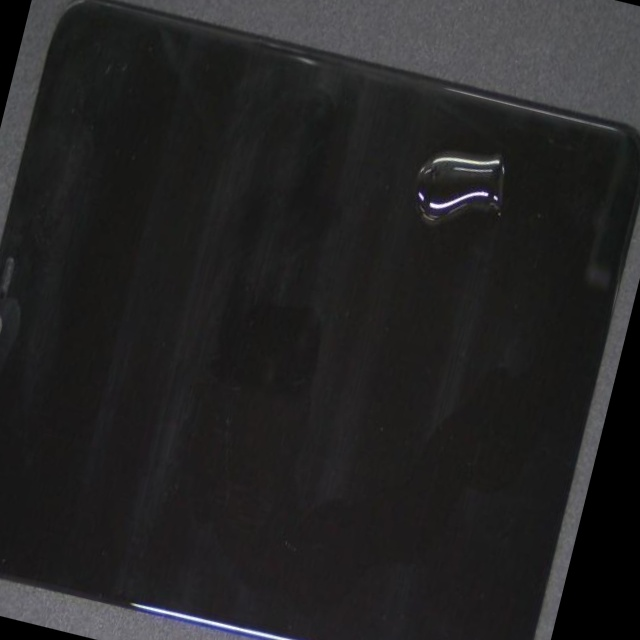oil: (240, 62, 640, 323)
